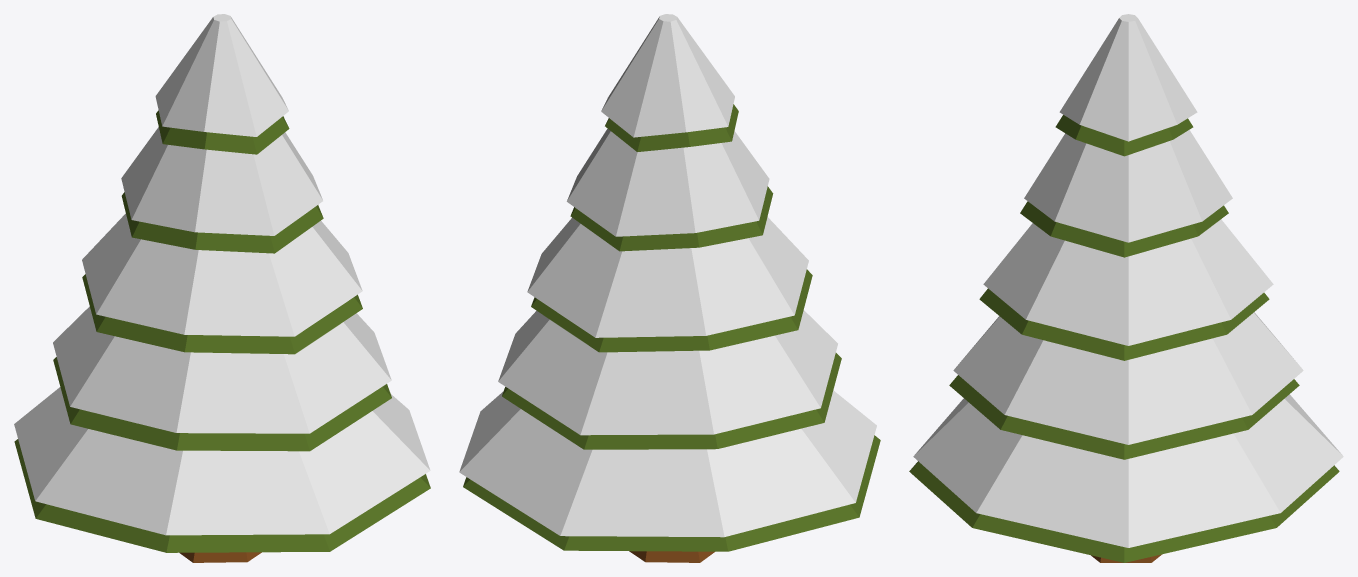
File: SpruceWinter.fbx
The picture shows the model from 3 angles, left to right: view 1: azimuth 30°, elevation 25°; view 2: azimuth 150°, elevation 25°; view 3: azimuth 270°, elevation 25°; orthographic projection.
Parts seen in each view (by area): view 1: Spruce_winter; view 2: Spruce_winter; view 3: Spruce_winter.
Boxes of the visible parts, x1,y1,x2,y2 form: Spruce_winter: (14,14,430,562); Spruce_winter: (459,14,880,562); Spruce_winter: (909,14,1343,562).
Size of the model in its own units: 1.5 by 2 by 1.5.
